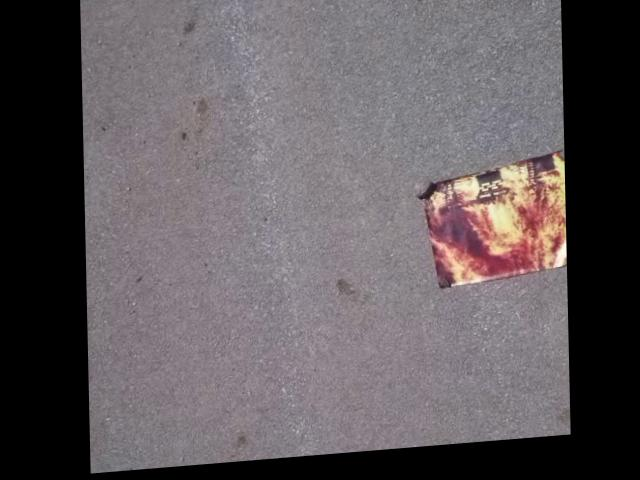fire-poster: (414, 157, 565, 300)
